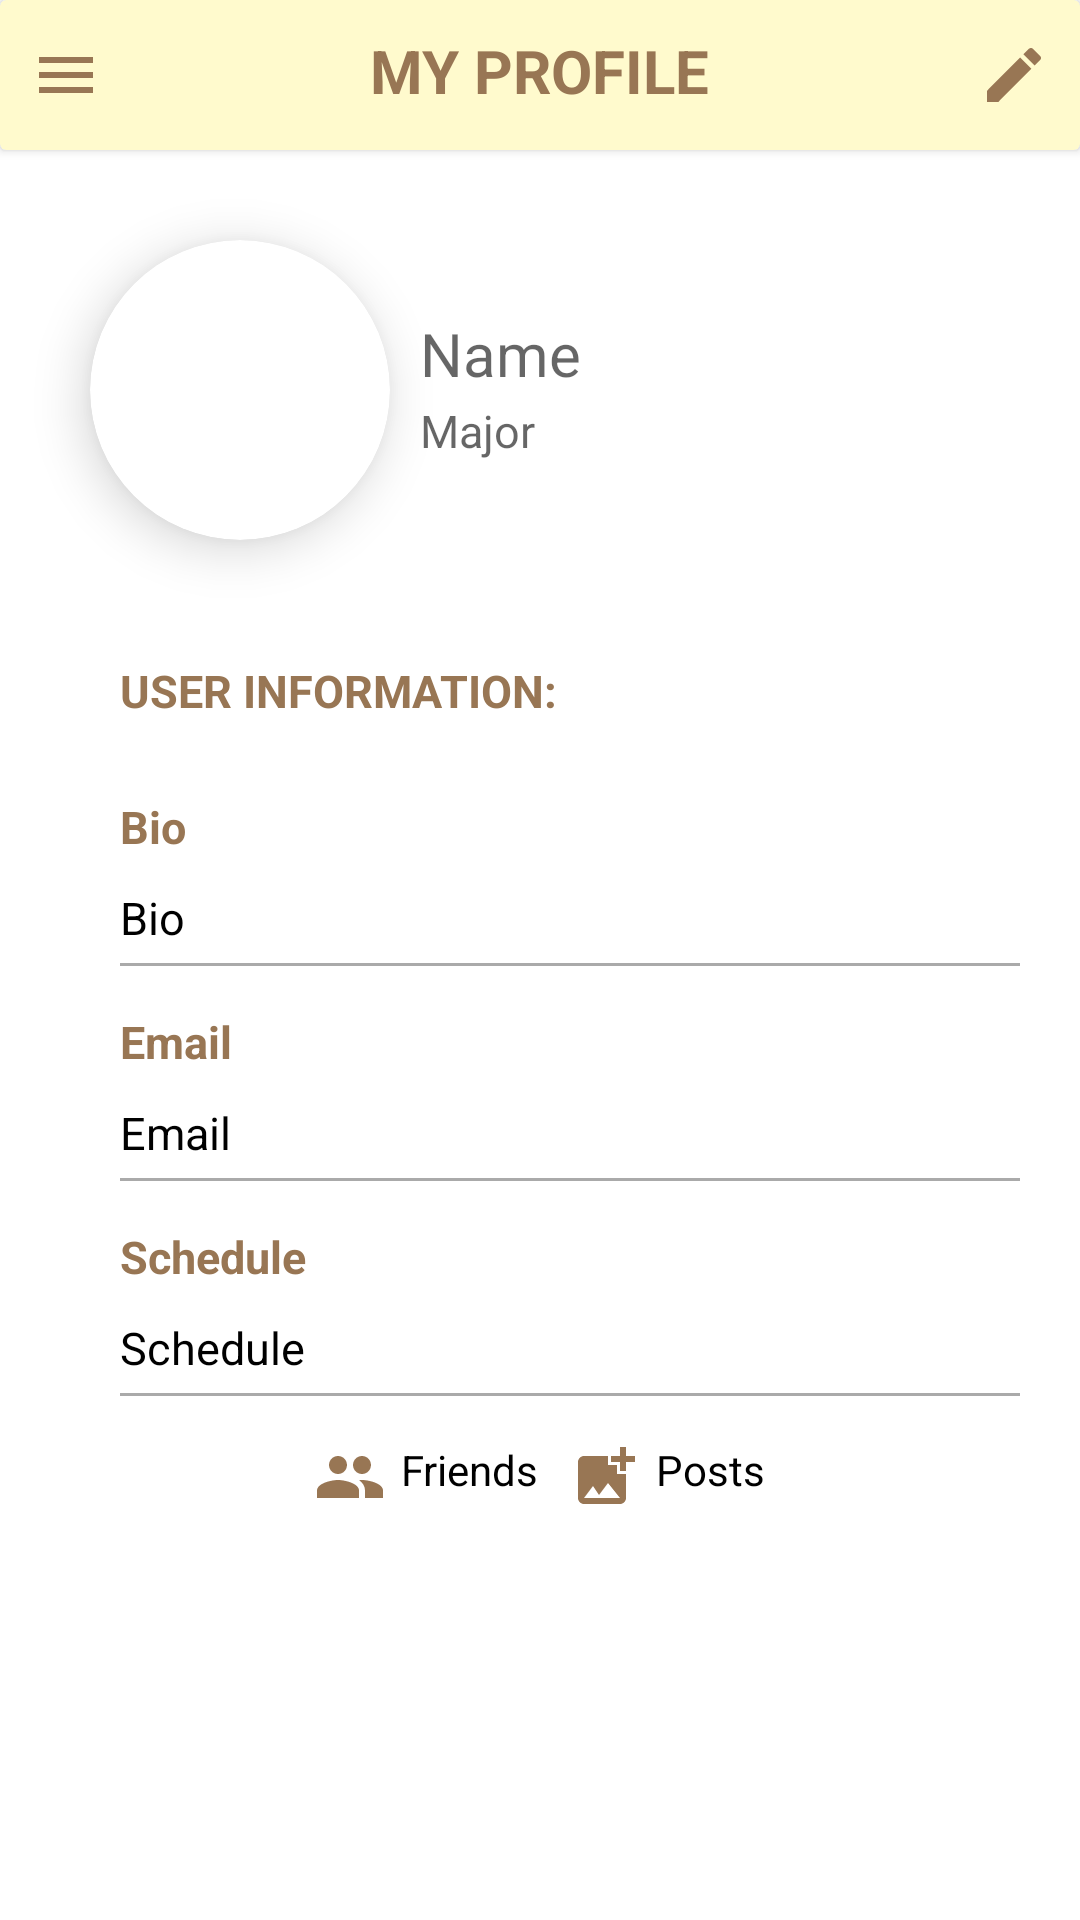

Where icons sit on this 1080 × 1920 app screen, as (x1, y1, x2, y2):
edit: (987, 48, 1041, 102)
menu: (39, 57, 93, 93)
